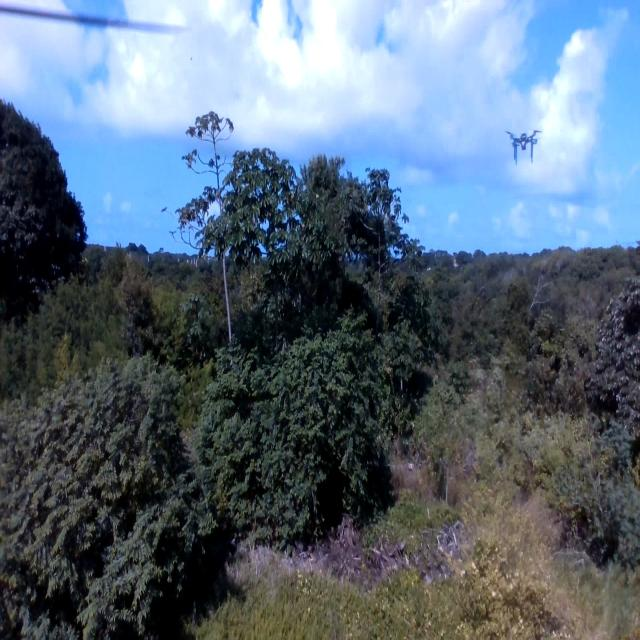-uav-: (504, 116, 544, 170)
